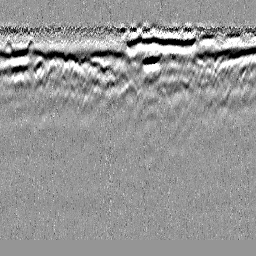cavity: (118, 76, 139, 98)
